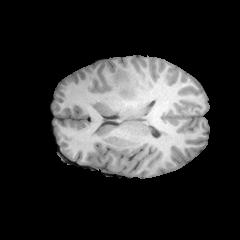glioma: (106, 67, 137, 99)
